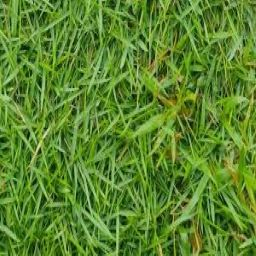grass: (3, 5, 246, 247)
